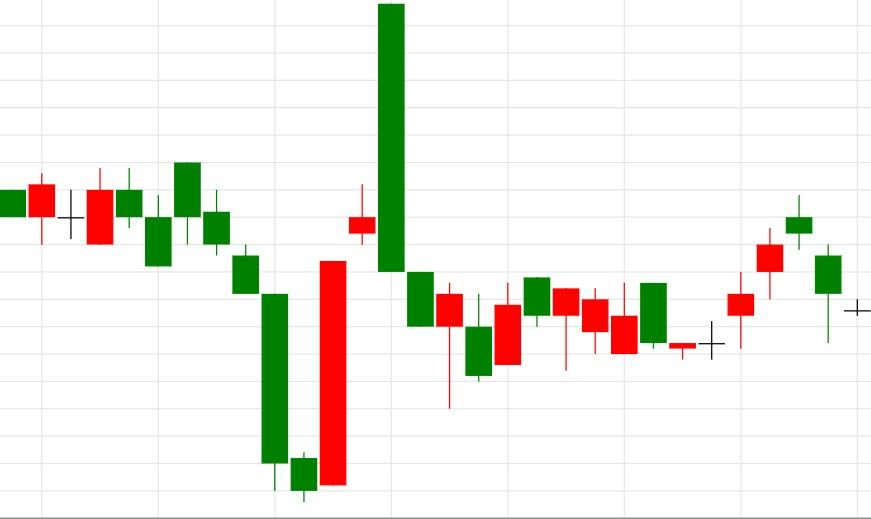three_black_crows_fall: (145, 161, 260, 294)
